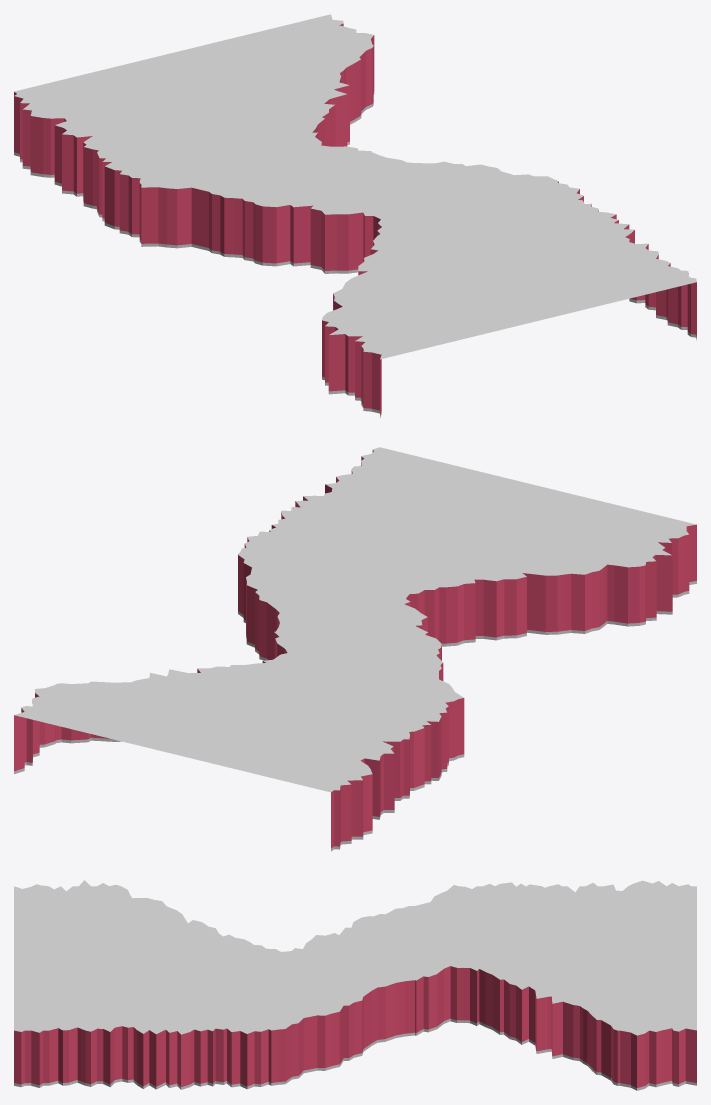
File: iceout1.fbx
3 views of the same model, one above another, from view 1: azimuth 30°, elevation 25°; view 2: azimuth 150°, elevation 25°; view 3: azimuth 270°, elevation 25° (orthographic). The views are drawn at different scales.
Parts seen in each view (by area): view 1: Main; view 2: Main; view 3: Main.
Boxes of the visible parts, x1,y1,x2,y2 form: Main: (14,14,696,417); Main: (14,447,696,851); Main: (14,880,696,1090).
Size of the model in its own units: 3018 by 500 by 5600.
